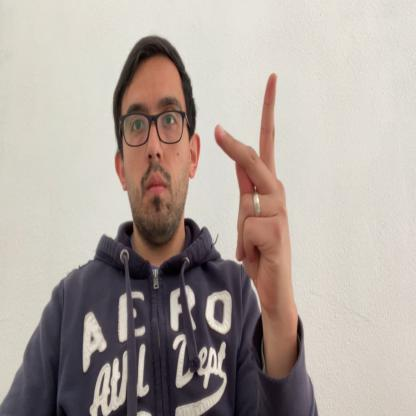P: (215, 72, 295, 317)
